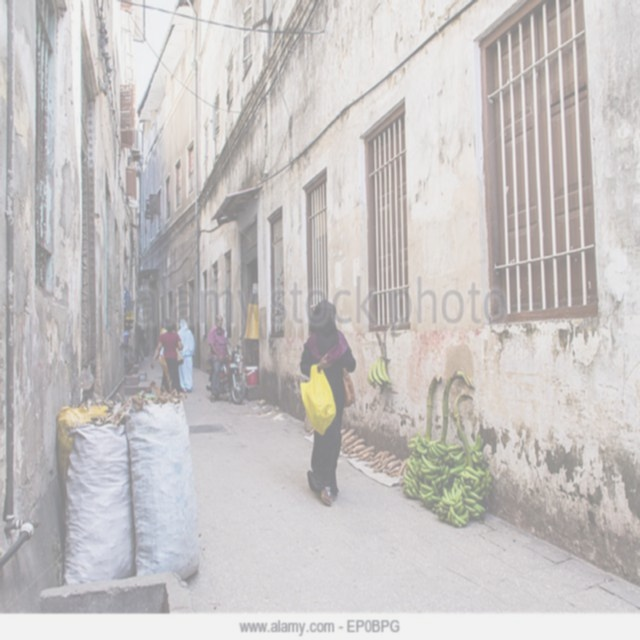pessoa: (296, 297, 355, 508), (149, 316, 185, 394), (204, 313, 234, 404), (176, 316, 196, 394), (157, 326, 177, 396), (131, 320, 147, 360)
